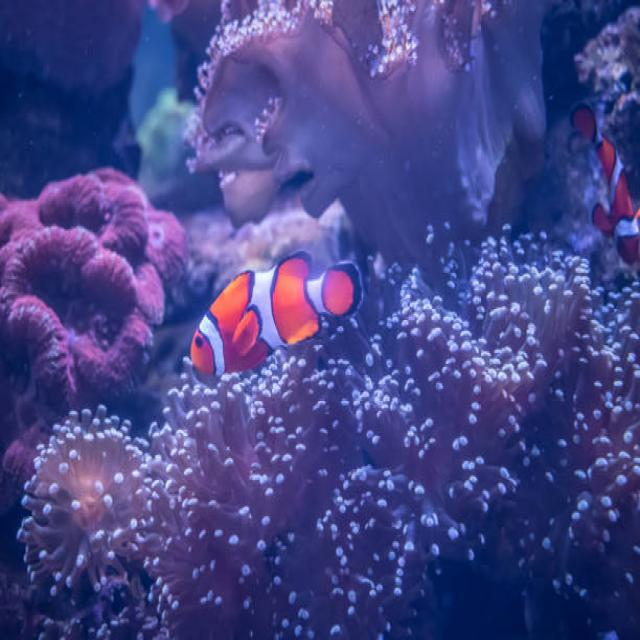ClownFish: (191, 249, 365, 383), (570, 100, 640, 273)
